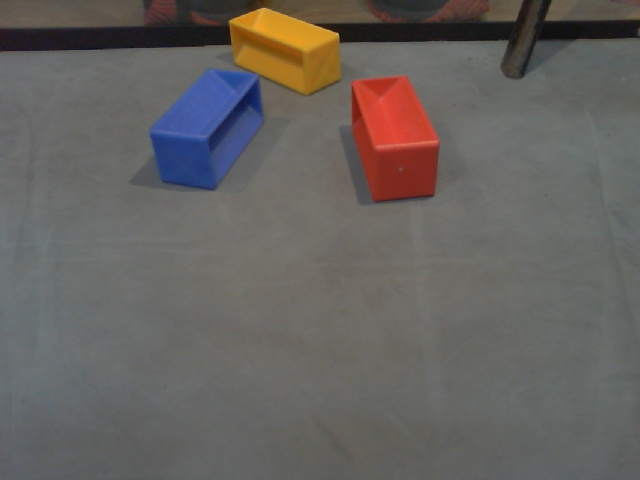BlueSample: (149, 67, 266, 192)
RedSample: (346, 71, 441, 206)
YellowSample: (226, 7, 345, 95)
